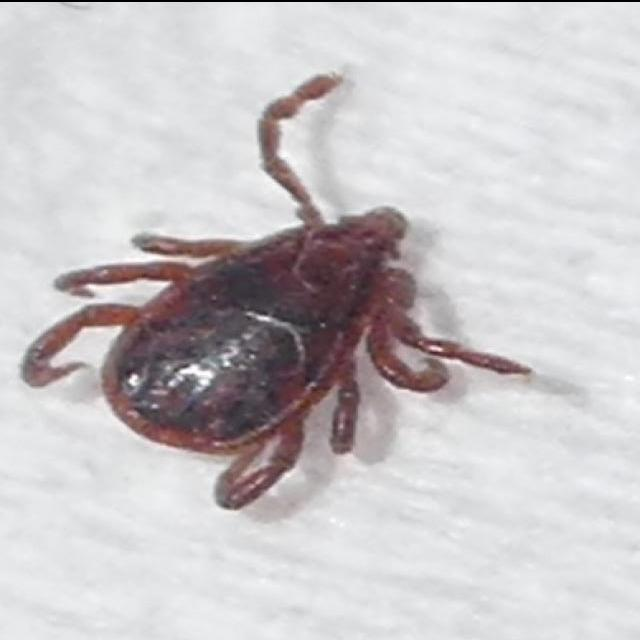Rhipicephalus Sanguineus-M: (20, 69, 531, 508)
